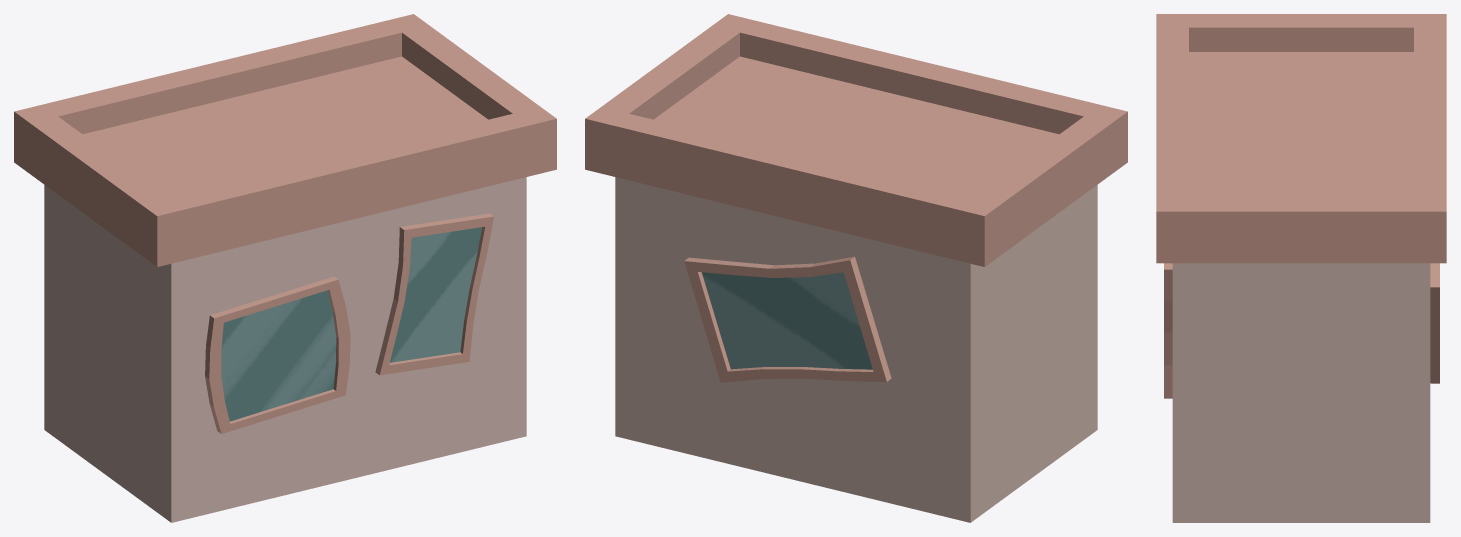
File: SM_DefaultFlat.fbx
3 renders of one model, left to right at view 1: azimuth 30°, elevation 25°; view 2: azimuth 150°, elevation 25°; view 3: azimuth 270°, elevation 25°, orthographic.
Parts seen in each view (by area): view 1: bakery.003; view 2: bakery.003; view 3: bakery.003.
Part boxes in pixels (left/top/right/bottom): bakery.003: left=14, top=14, right=556, bottom=522; bakery.003: left=585, top=14, right=1127, bottom=522; bakery.003: left=1156, top=14, right=1446, bottom=522.
Bounding box in the file's own units: 331 × 251 × 205.
